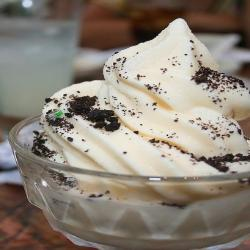icecream: (14, 18, 250, 201)
